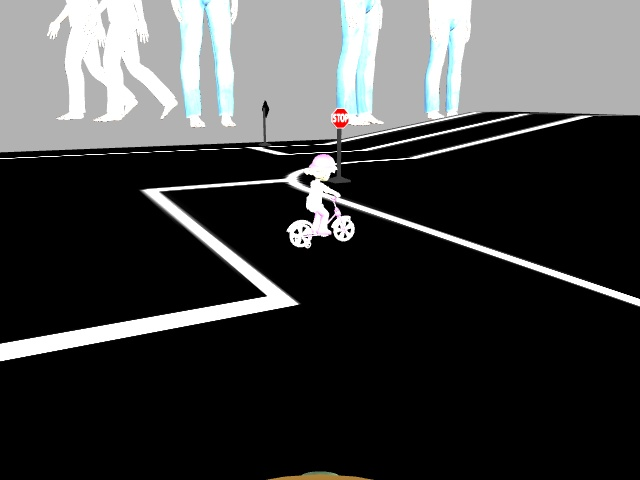Pedestrian: (286, 152, 359, 250)
Stop: (330, 103, 351, 128)
